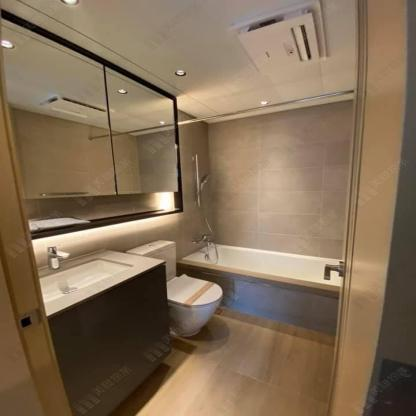Bathtub: (177, 243, 342, 334)
Faucet: (40, 243, 71, 268)
Thermo Ventilator: (226, 0, 327, 77)
Toilet: (126, 239, 225, 336)
Toilet Sink: (36, 248, 165, 317)
